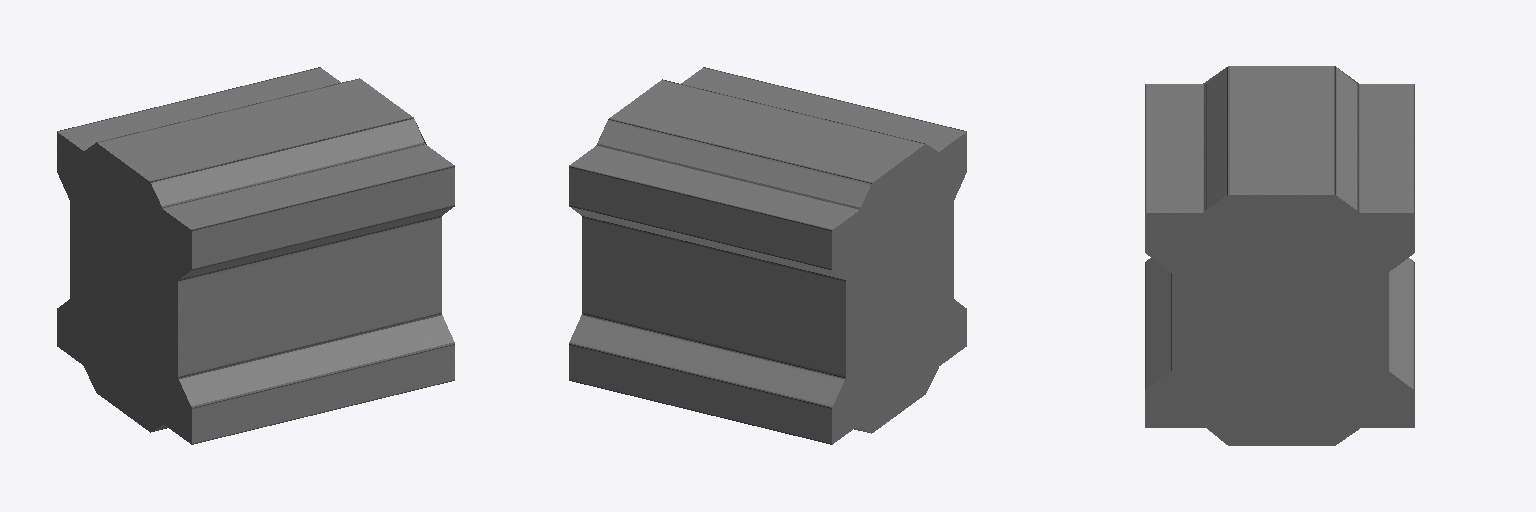
3 renders of one model, left to right at view 1: azimuth 30°, elevation 25°; view 2: azimuth 150°, elevation 25°; view 3: azimuth 270°, elevation 25°, orthographic.
Visible parts, largest first — view 1: Straight.obj; view 2: Straight.obj; view 3: Straight.obj.
Part boxes in pixels (bbox=[...]): Straight.obj: bbox=[57, 67, 454, 444]; Straight.obj: bbox=[569, 67, 966, 444]; Straight.obj: bbox=[1145, 66, 1414, 445].
Bounding box in the file's own units: 2.25 × 2.04 × 2.
Materials: 1 (1 with a texture image).